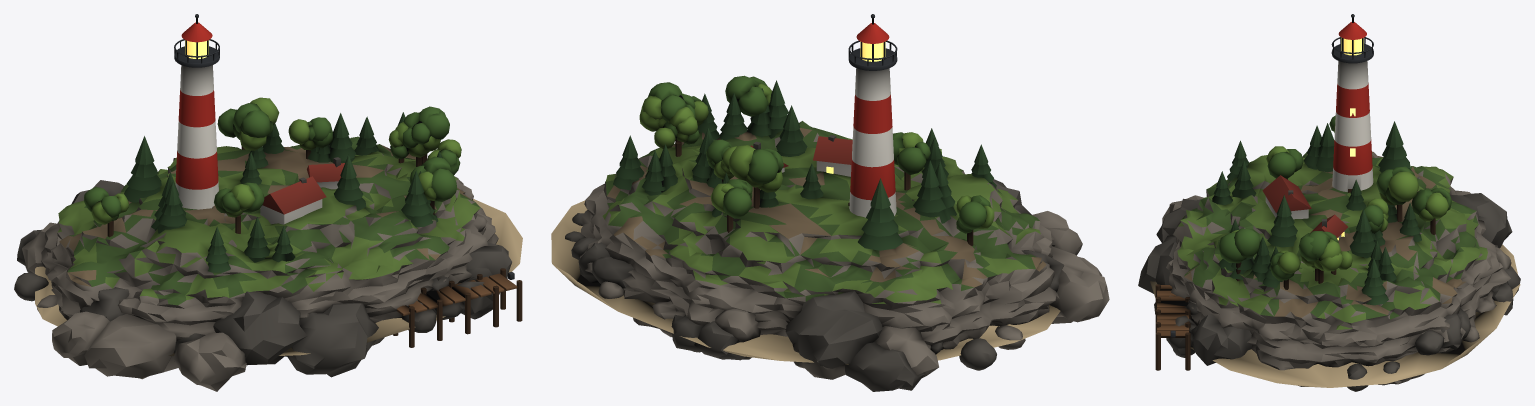
Rendered from island_lighthouse.glb.
The picture shows the model from 3 angles, left to right: view 1: azimuth 30°, elevation 25°; view 2: azimuth 150°, elevation 25°; view 3: azimuth 270°, elevation 25°; orthographic projection. The views are drawn at different scales.
Parts seen in each view (by area): view 1: island_lighthouse; view 2: island_lighthouse; view 3: island_lighthouse.
Boxes of the visible parts, x1,y1,x2,y2 form: island_lighthouse: [14, 14, 522, 391]; island_lighthouse: [551, 14, 1109, 391]; island_lighthouse: [1138, 14, 1520, 391].
Size of the model in its own units: 4.08 by 2.46 by 3.09.
